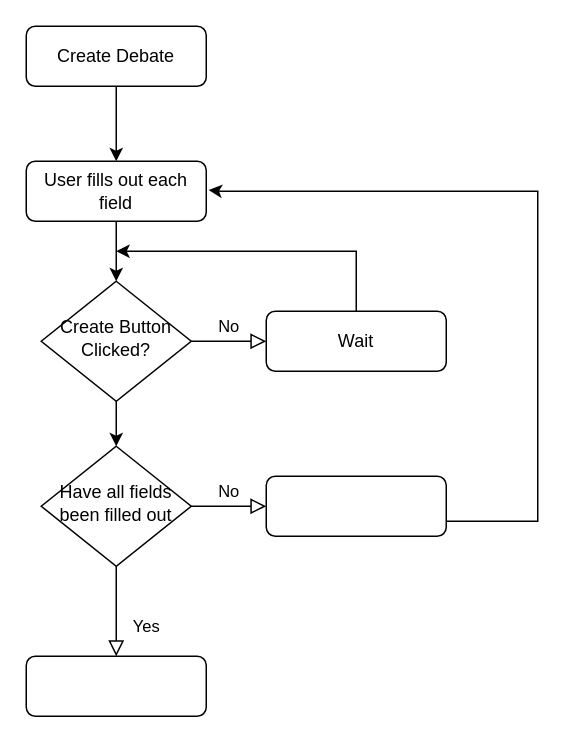
The diagram is 576 pixels wide and 743 high, and some of its shapes have lost their labels. Each missing label, with the centre of its shape:
"downloadDebate()" goes at point (115, 685).
"Prompt user to fill out all fields" goes at point (355, 505).
